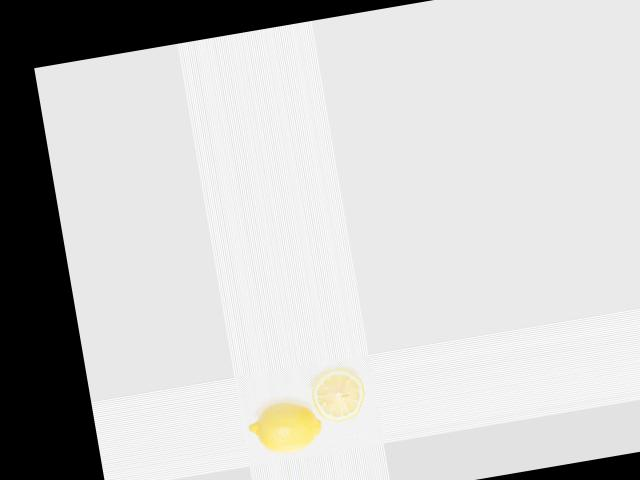lemon: (246, 398, 333, 463)
